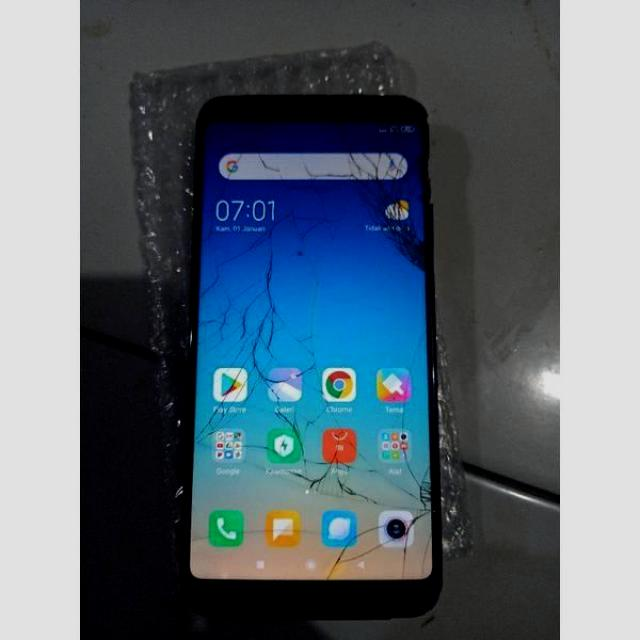phone: (195, 99, 444, 606)
